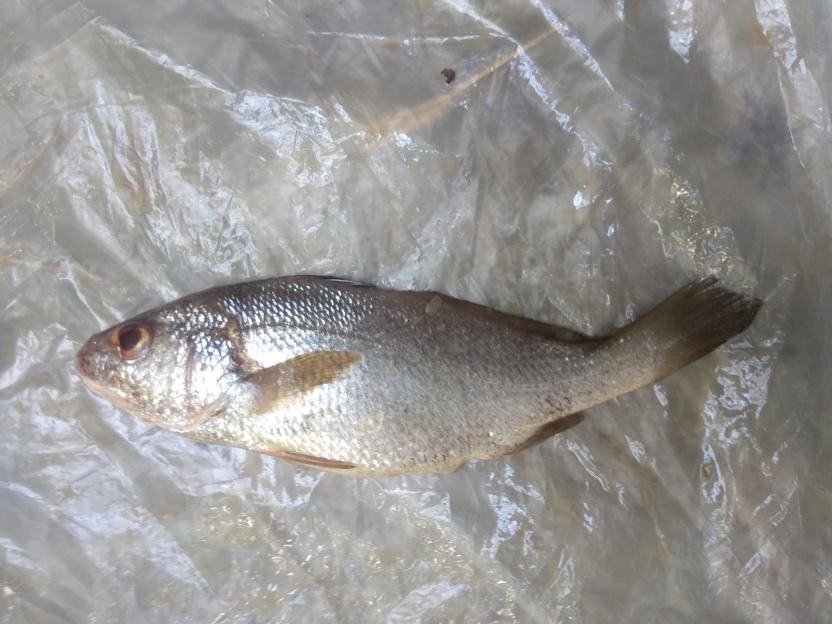Fish head: (76, 282, 239, 444)
Fish tail: (616, 273, 766, 397)
